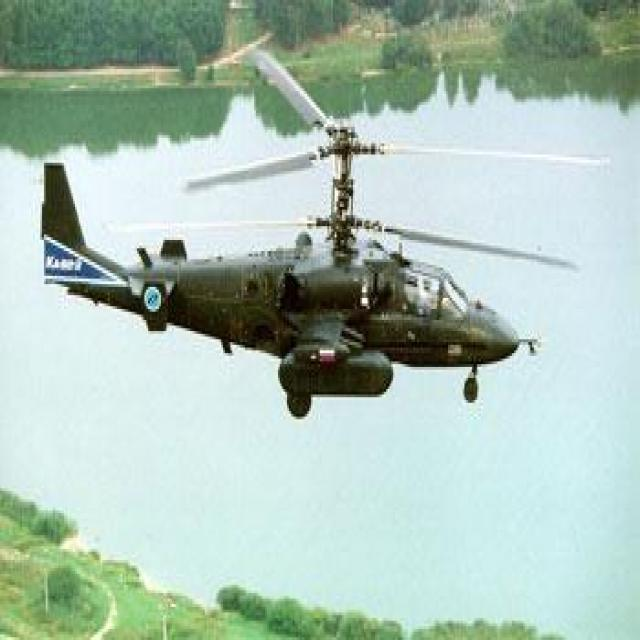MIL_HELO: (32, 48, 610, 434)
